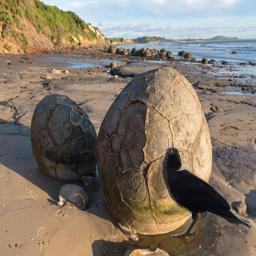Crow: (160, 146, 252, 238)
